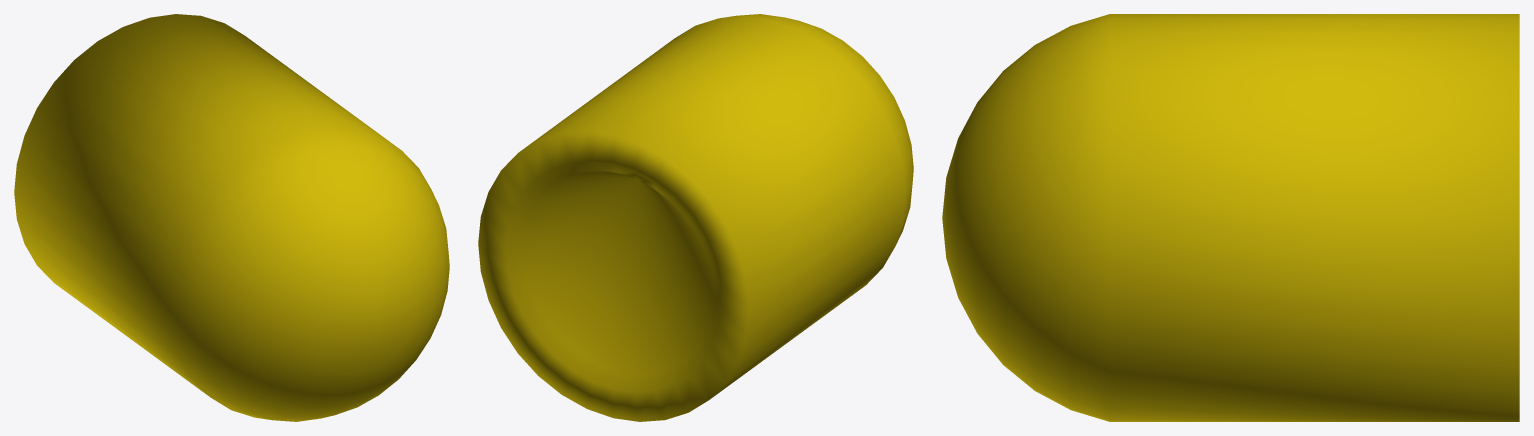
The model's file is bullet.fbx.
3 views of the same model, side by side, from view 1: azimuth 30°, elevation 25°; view 2: azimuth 150°, elevation 25°; view 3: azimuth 270°, elevation 25° (orthographic). The views are drawn at different scales.
Visible parts, largest first — view 1: Cube; view 2: Cube; view 3: Cube.
Part boxes in pixels (x1,y1,x2,y2): Cube: (14, 14, 449, 421); Cube: (478, 14, 913, 421); Cube: (942, 14, 1519, 421).
Size of the model in its own units: 196 by 196 by 277.
1 material, 1 textured.
